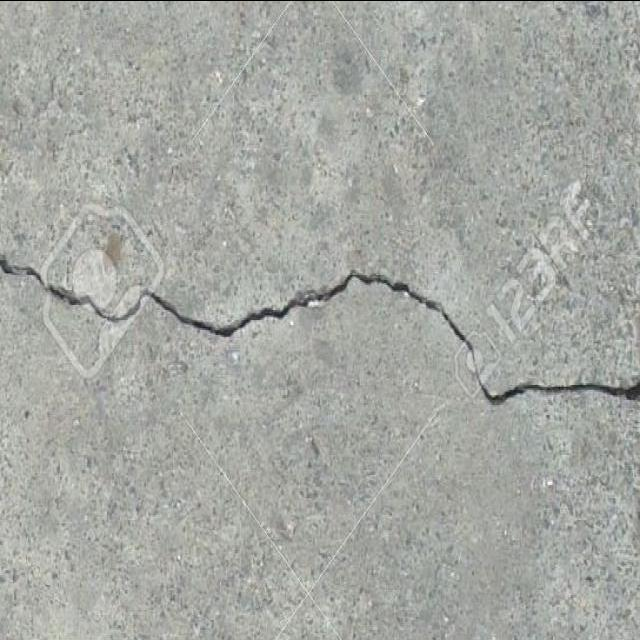Crack: (0, 197, 639, 408)
